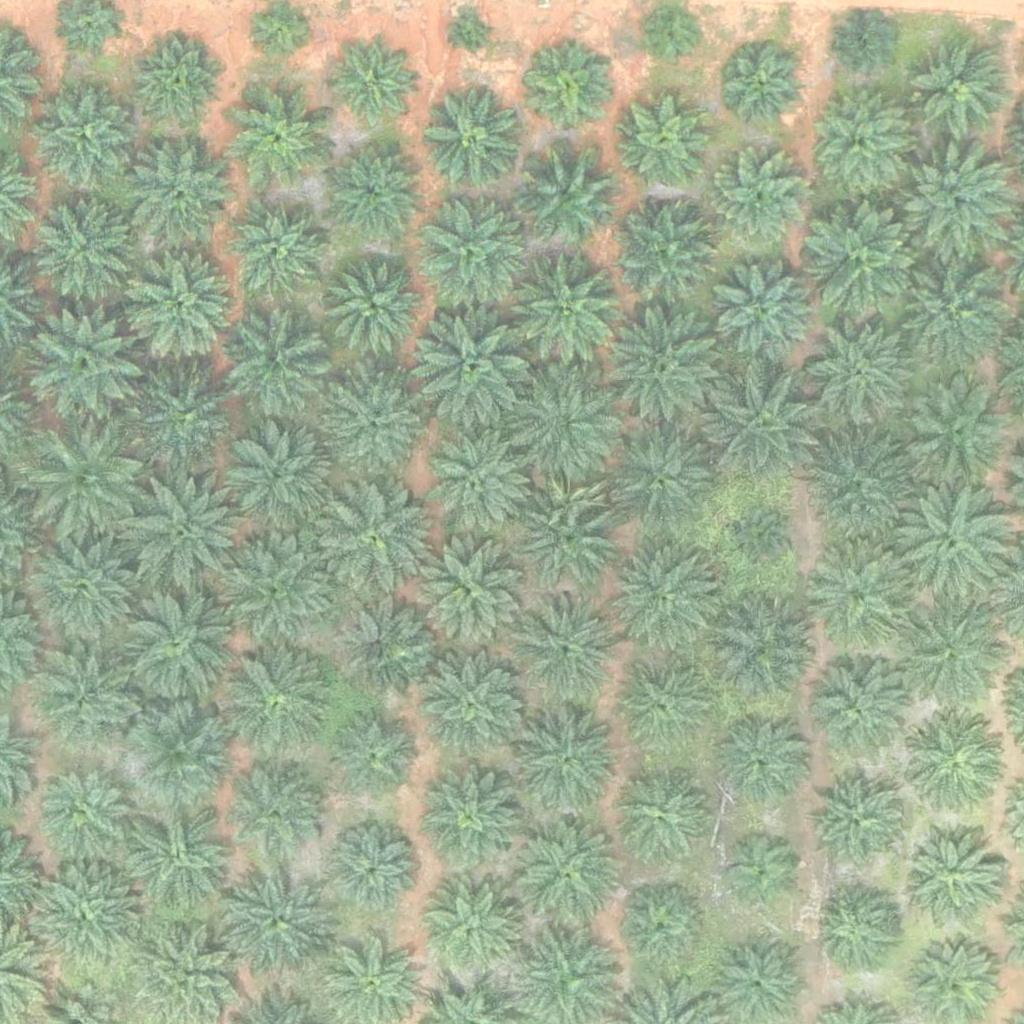Kelapa_Sawit: (24, 303, 149, 429), (22, 421, 147, 547), (119, 469, 244, 595), (407, 307, 532, 433), (500, 364, 625, 490), (596, 306, 721, 432), (701, 365, 826, 491), (802, 196, 927, 322), (798, 425, 923, 551), (885, 245, 1010, 371), (895, 476, 1020, 602), (891, 590, 1016, 716), (115, 583, 240, 709), (22, 523, 147, 649), (120, 246, 245, 371), (310, 477, 435, 602), (217, 526, 342, 651), (217, 639, 342, 764), (510, 255, 623, 369), (610, 196, 723, 310), (709, 591, 822, 705), (602, 423, 715, 536), (607, 540, 720, 653), (899, 145, 1012, 258), (900, 377, 1013, 490), (515, 705, 628, 818), (512, 818, 625, 931), (122, 805, 235, 918), (807, 540, 919, 654), (28, 857, 140, 971), (416, 190, 528, 303), (419, 426, 531, 539), (509, 475, 621, 588), (710, 257, 822, 370), (801, 314, 913, 427), (606, 654, 718, 767), (511, 588, 623, 701), (222, 870, 334, 983), (34, 84, 134, 185), (34, 196, 134, 297), (129, 141, 229, 242), (137, 368, 237, 469), (231, 88, 331, 189), (226, 203, 326, 304), (227, 317, 327, 418), (231, 421, 331, 522), (323, 140, 423, 241), (325, 256, 425, 357), (322, 372, 422, 473), (419, 544, 519, 645), (706, 150, 806, 251), (810, 91, 910, 192), (910, 39, 1010, 140), (612, 768, 712, 869), (423, 658, 523, 759), (417, 769, 517, 870), (420, 882, 520, 983), (331, 595, 431, 696), (228, 763, 328, 864), (131, 704, 231, 805), (40, 647, 140, 748), (423, 85, 523, 185), (518, 143, 618, 243), (903, 717, 1003, 817), (903, 827, 1003, 927), (803, 661, 903, 761), (810, 774, 910, 874), (711, 716, 811, 816), (328, 715, 416, 804), (328, 40, 416, 128), (621, 95, 709, 183), (720, 44, 808, 132), (614, 884, 702, 972), (325, 827, 413, 915), (140, 37, 227, 125), (527, 49, 614, 137), (807, 886, 894, 974), (41, 768, 128, 856), (722, 831, 797, 907), (731, 511, 794, 574), (832, 14, 895, 77), (642, 7, 704, 70), (454, 15, 491, 53)
